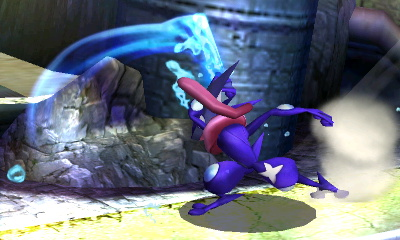greninja: (159, 57, 368, 219)
